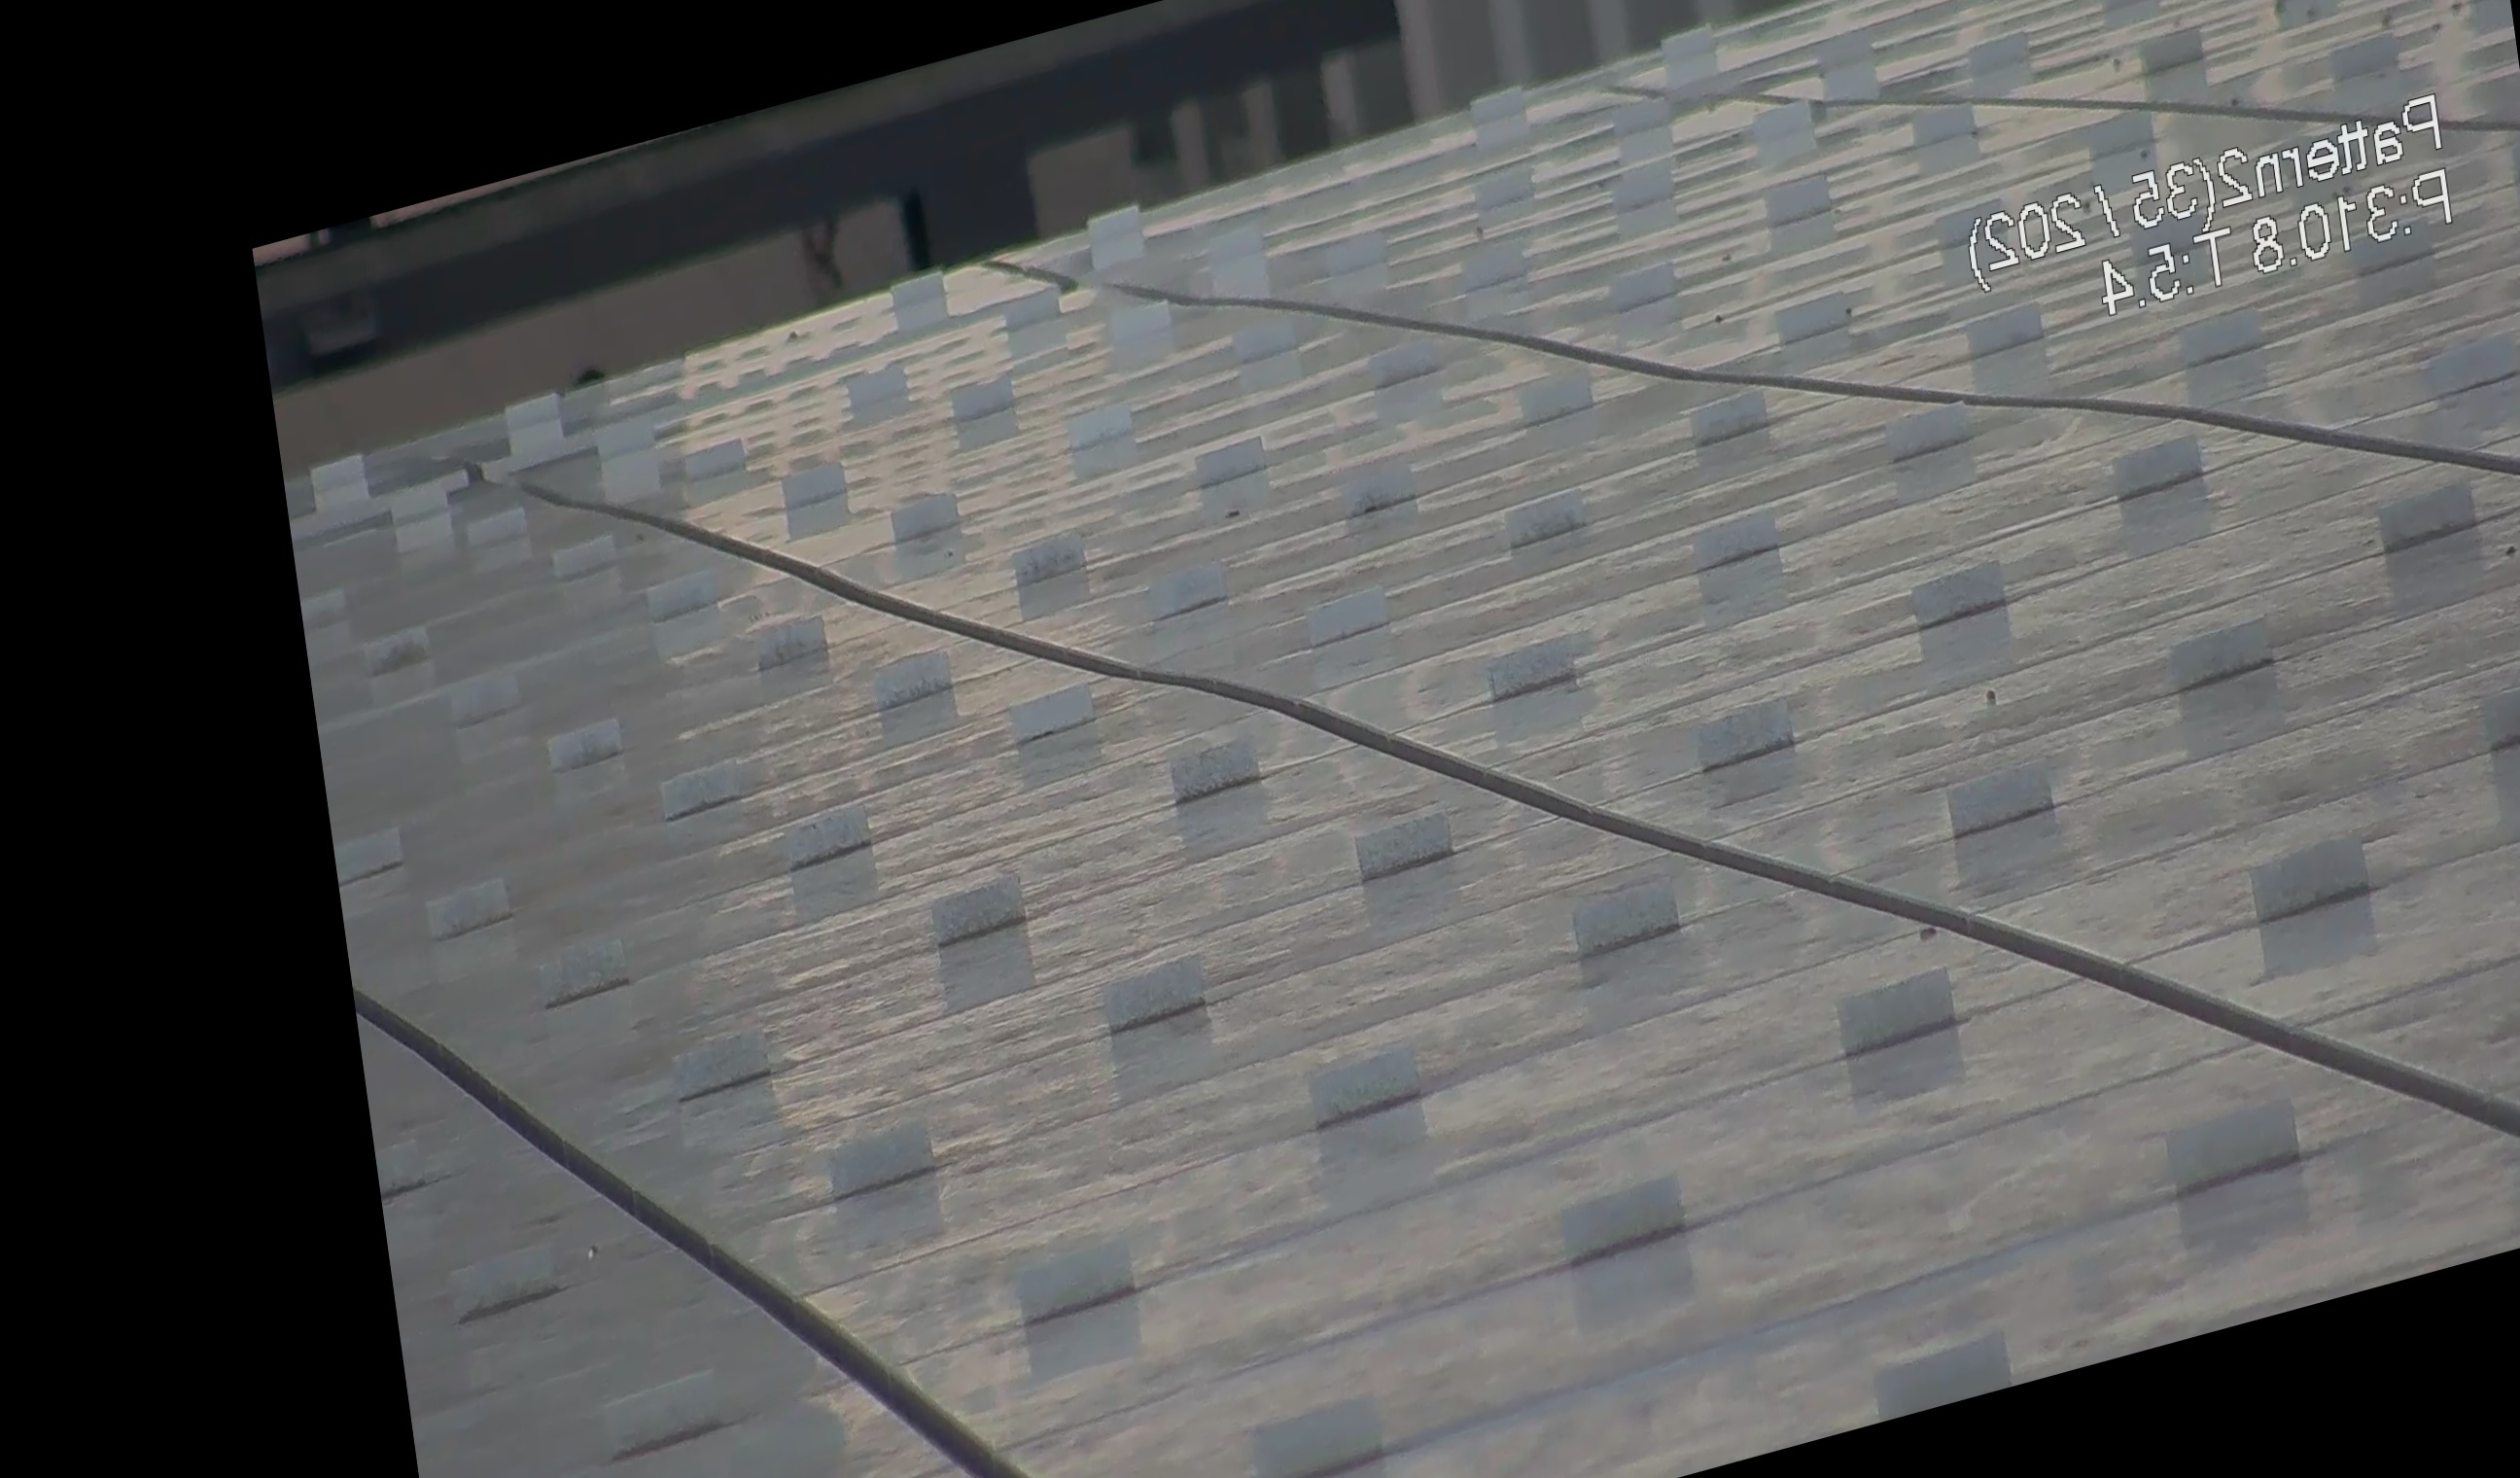Other: (266, 79, 392, 271)
